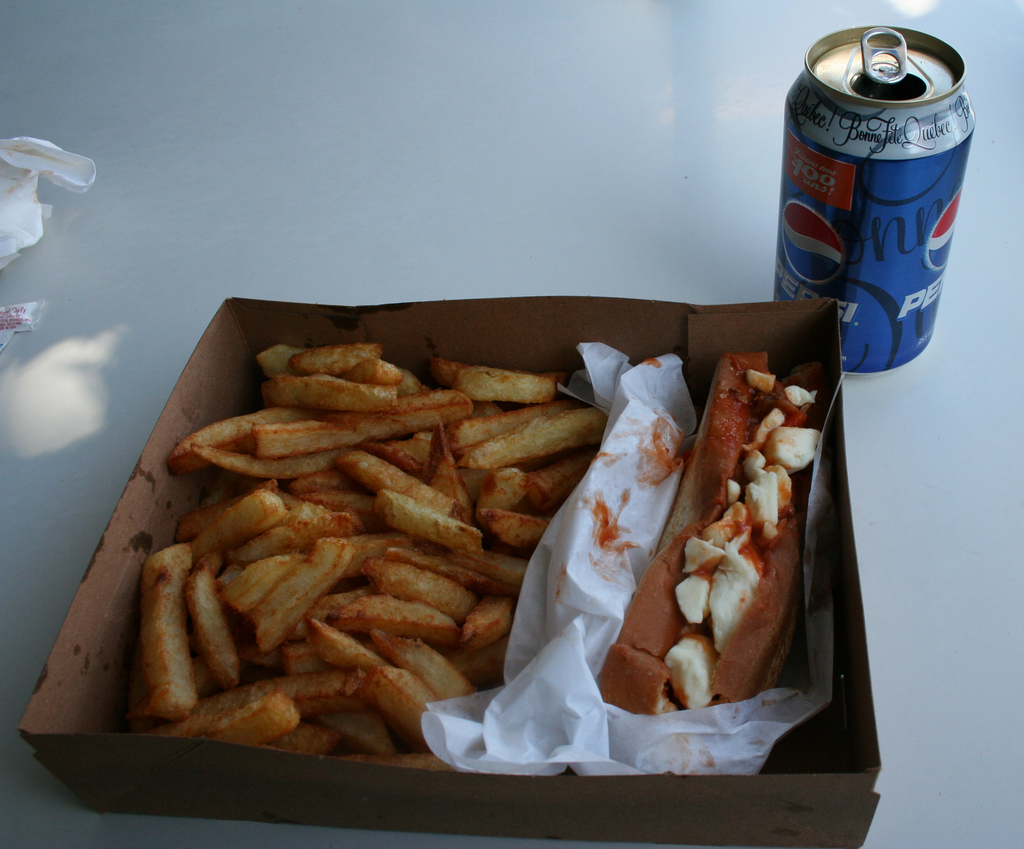French fries: (103, 338, 632, 778)
